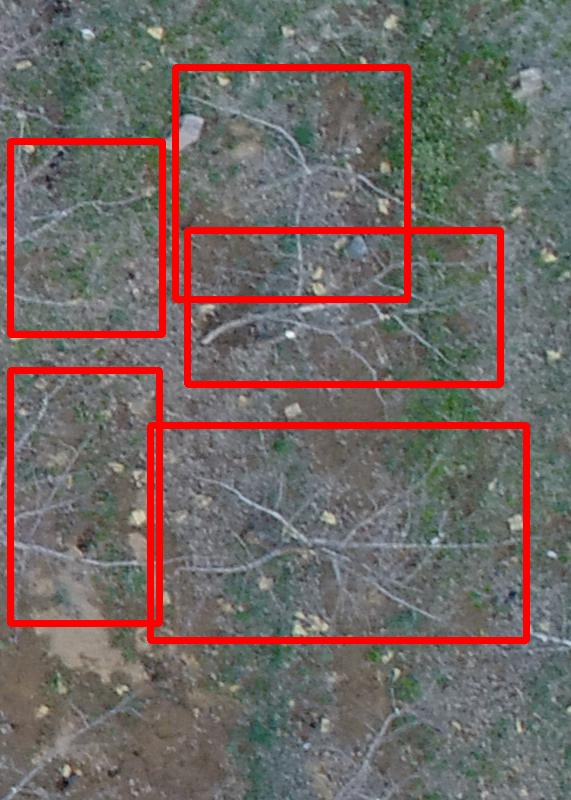apple: (150, 425, 526, 640), (175, 67, 407, 299), (187, 230, 500, 384), (10, 370, 159, 623), (10, 141, 162, 334)
